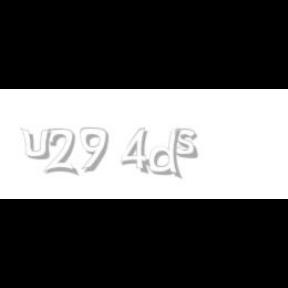2: (43, 128, 77, 176)
4: (120, 128, 150, 174)
9: (80, 128, 108, 172)
d: (148, 128, 186, 180)
s: (174, 128, 202, 160)
u: (20, 128, 56, 160)
